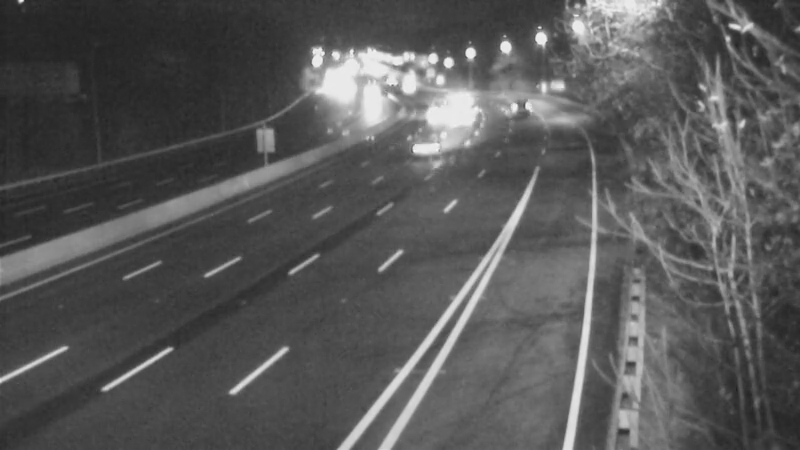vehicle: (436, 84, 486, 134), (491, 83, 541, 133), (415, 83, 465, 133), (434, 95, 484, 145), (412, 122, 462, 172), (338, 70, 388, 120)
